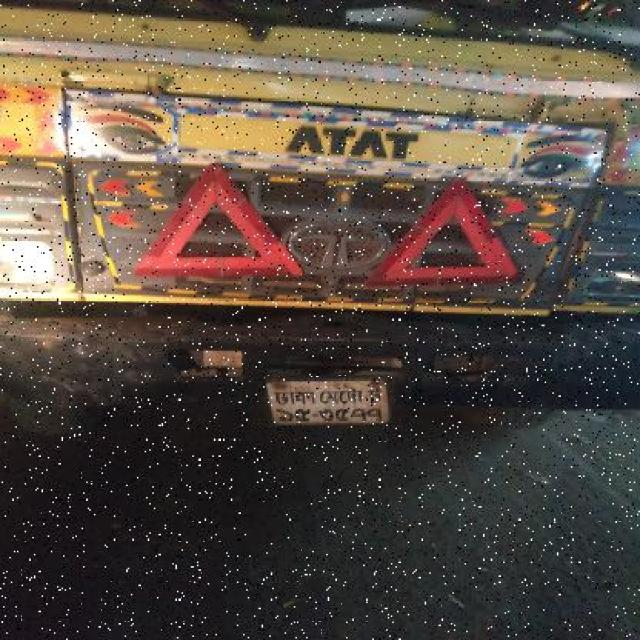numberplate: (265, 376, 392, 426)
